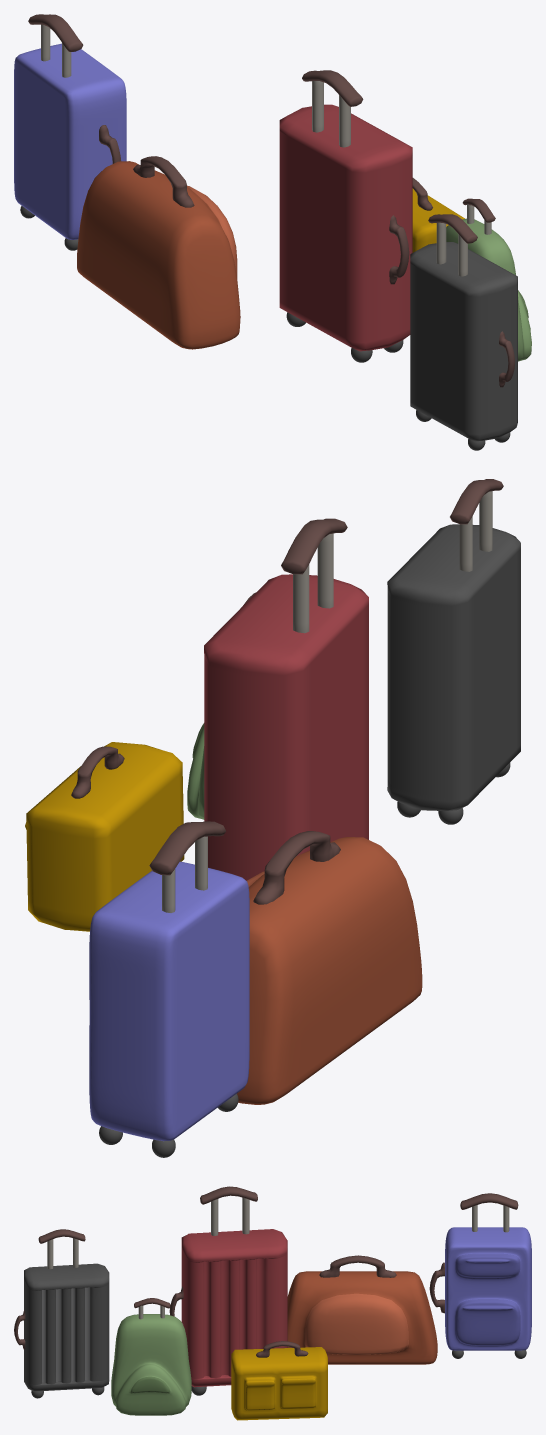
File: luggage.fbx
3 renders of one model, top to bottom at view 1: azimuth 30°, elevation 25°; view 2: azimuth 150°, elevation 25°; view 3: azimuth 270°, elevation 25°, orthographic. The views are drawn at different scales.
Parts seen in each view (by area): view 1: polySurface2, polySurface21, polySurface62, polySurface24, pCube38, polySurface51; view 2: polySurface2, polySurface24, polySurface62, polySurface21, polySurface51, pCube38; view 3: polySurface2, polySurface21, polySurface24, polySurface62, pCube38, polySurface51.
Part boxes in pixels (bbox=[...]): polySurface2: bbox=[279, 70, 412, 362]; polySurface21: bbox=[77, 156, 240, 349]; polySurface62: bbox=[410, 214, 517, 450]; polySurface24: bbox=[14, 14, 126, 250]; pCube38: bbox=[446, 198, 531, 361]; polySurface51: bbox=[412, 178, 465, 252]; polySurface2: bbox=[204, 518, 368, 880]; polySurface24: bbox=[89, 821, 249, 1157]; polySurface62: bbox=[387, 479, 520, 824]; polySurface21: bbox=[237, 831, 422, 1104]; polySurface51: bbox=[25, 742, 184, 931]; pCube38: bbox=[187, 592, 255, 819]; polySurface2: bbox=[169, 1186, 287, 1395]; polySurface21: bbox=[287, 1255, 437, 1364]; polySurface24: bbox=[429, 1193, 531, 1358]; polySurface62: bbox=[14, 1229, 109, 1398]; pCube38: bbox=[111, 1298, 191, 1415]; polySurface51: bbox=[231, 1341, 327, 1420].
Bounding box in the file's own units: 8.49 × 8.47 × 19.96.
